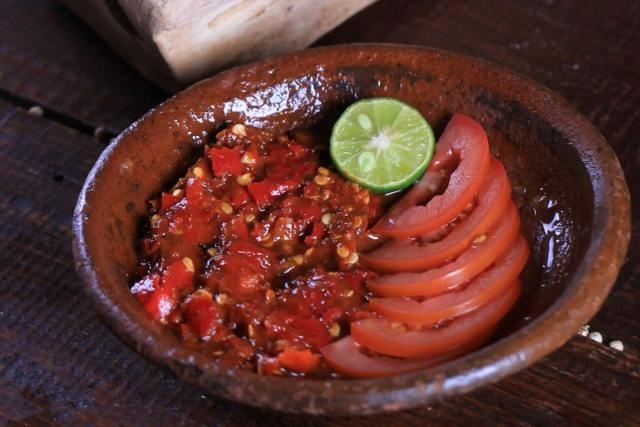sambal: (134, 106, 366, 370)
